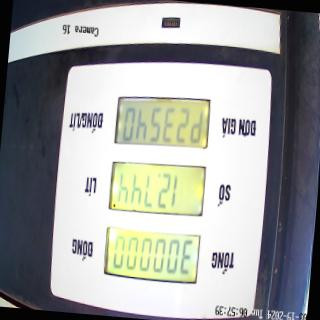screen: (100, 88, 214, 288)
